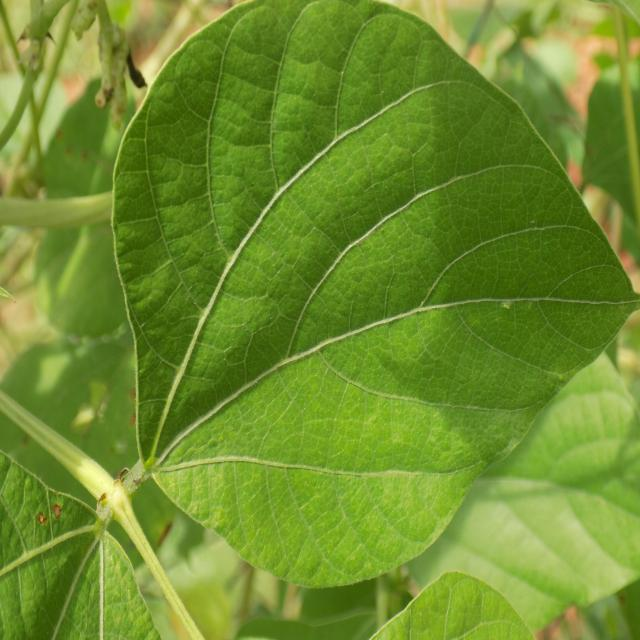Dolicos bean_healthy: (109, 0, 640, 584)
